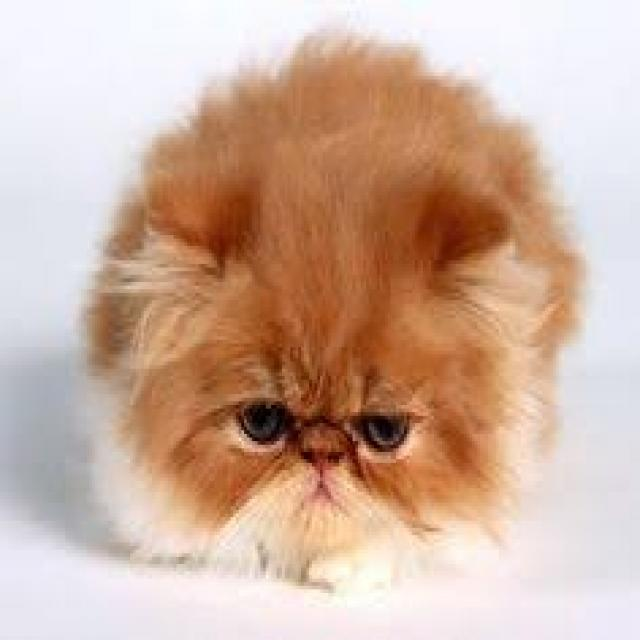Cat: (65, 24, 589, 600)
